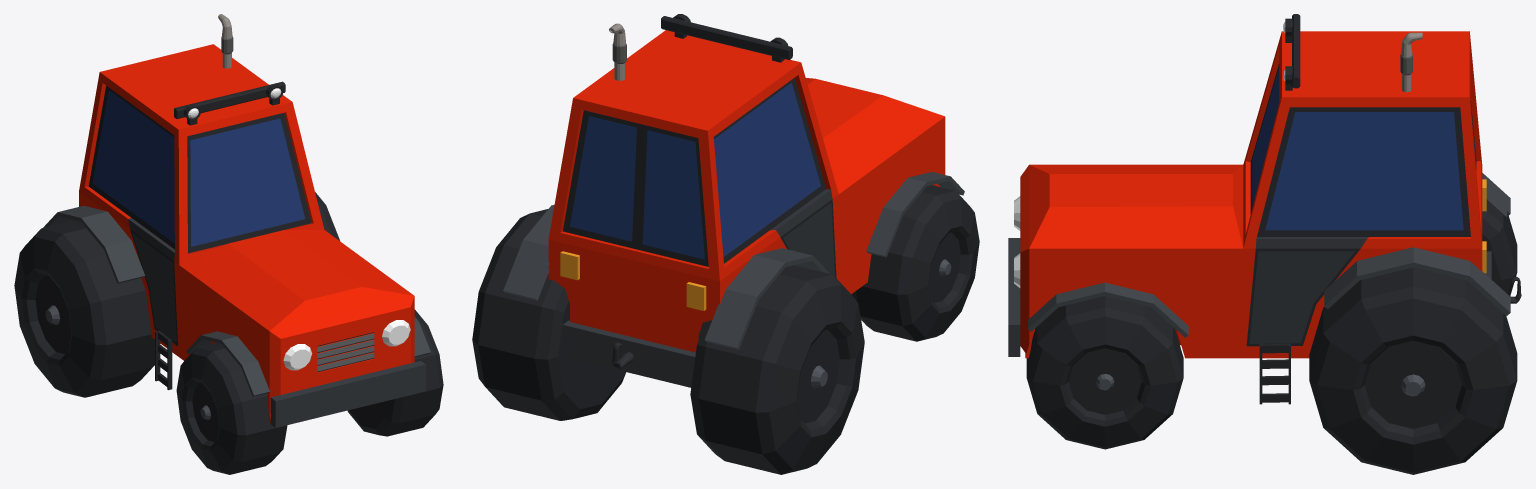
The model's file is Tractor_1.fbx.
3 renders of one model, left to right at view 1: azimuth 30°, elevation 25°; view 2: azimuth 150°, elevation 25°; view 3: azimuth 270°, elevation 25°, orthographic. The views are drawn at different scales.
Visible parts, largest first — view 1: Tractor_1, TractorBackWheels_1, TractorFrontWheels_1; view 2: Tractor_1, TractorBackWheels_1, TractorFrontWheels_1; view 3: Tractor_1, TractorBackWheels_1, TractorFrontWheels_1.
Part boxes in pixels (left/top/right/bottom): Tractor_1: left=43, top=14, right=430, bottom=427; TractorBackWheels_1: left=14, top=192, right=339, bottom=397; TractorFrontWheels_1: left=176, top=309, right=443, bottom=474; Tractor_1: left=503, top=14, right=964, bottom=387; TractorBackWheels_1: left=472, top=209, right=864, bottom=474; TractorFrontWheels_1: left=851, top=185, right=979, bottom=341; Tractor_1: left=1008, top=14, right=1521, bottom=404; TractorBackWheels_1: left=1309, top=199, right=1517, bottom=474; TractorFrontWheels_1: left=1026, top=296, right=1183, bottom=449.
Size of the model in its own units: 258 by 310 by 361.
